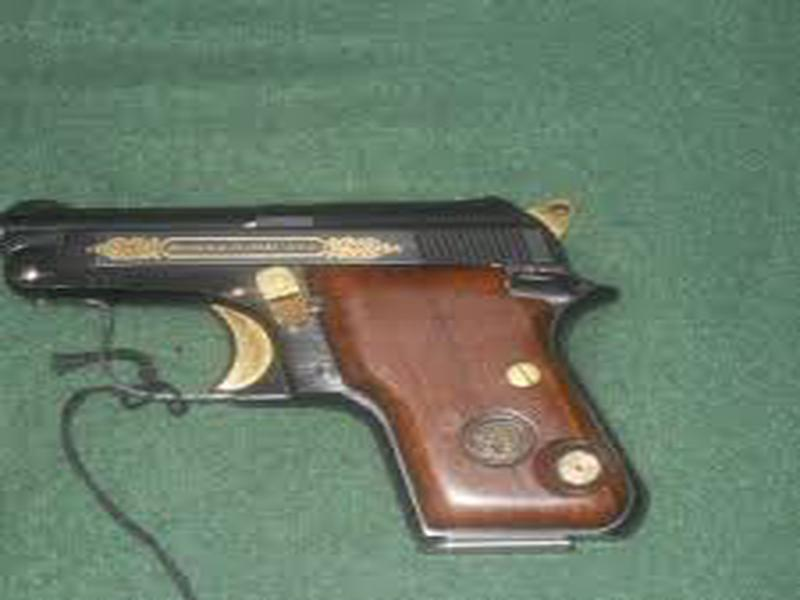gun: (13, 199, 641, 553)
